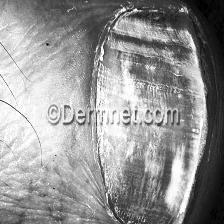Toxin: (92, 0, 208, 224)
